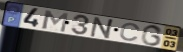3: (70, 14, 91, 36)
4: (22, 7, 42, 30)
C: (119, 22, 142, 42)
G: (140, 24, 164, 47)
M: (41, 9, 70, 34)
N: (89, 16, 117, 40)
